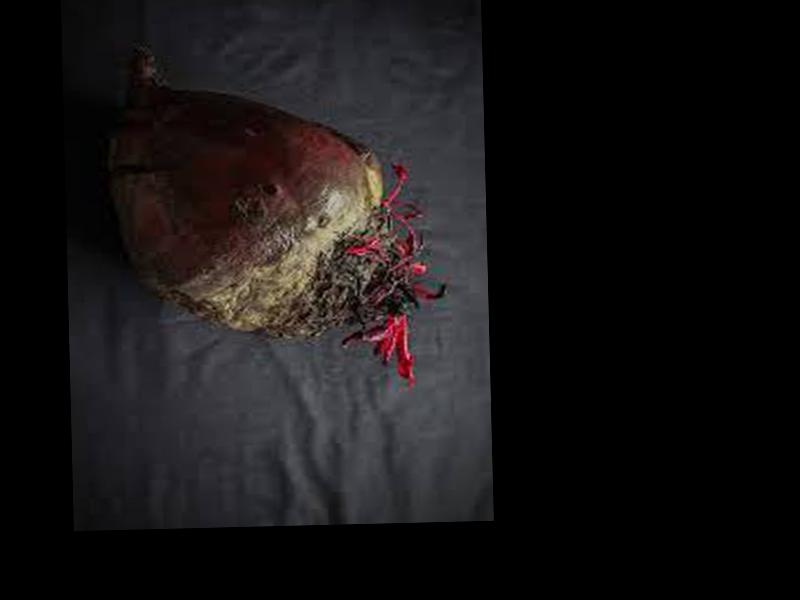Beet: (107, 36, 448, 393)
